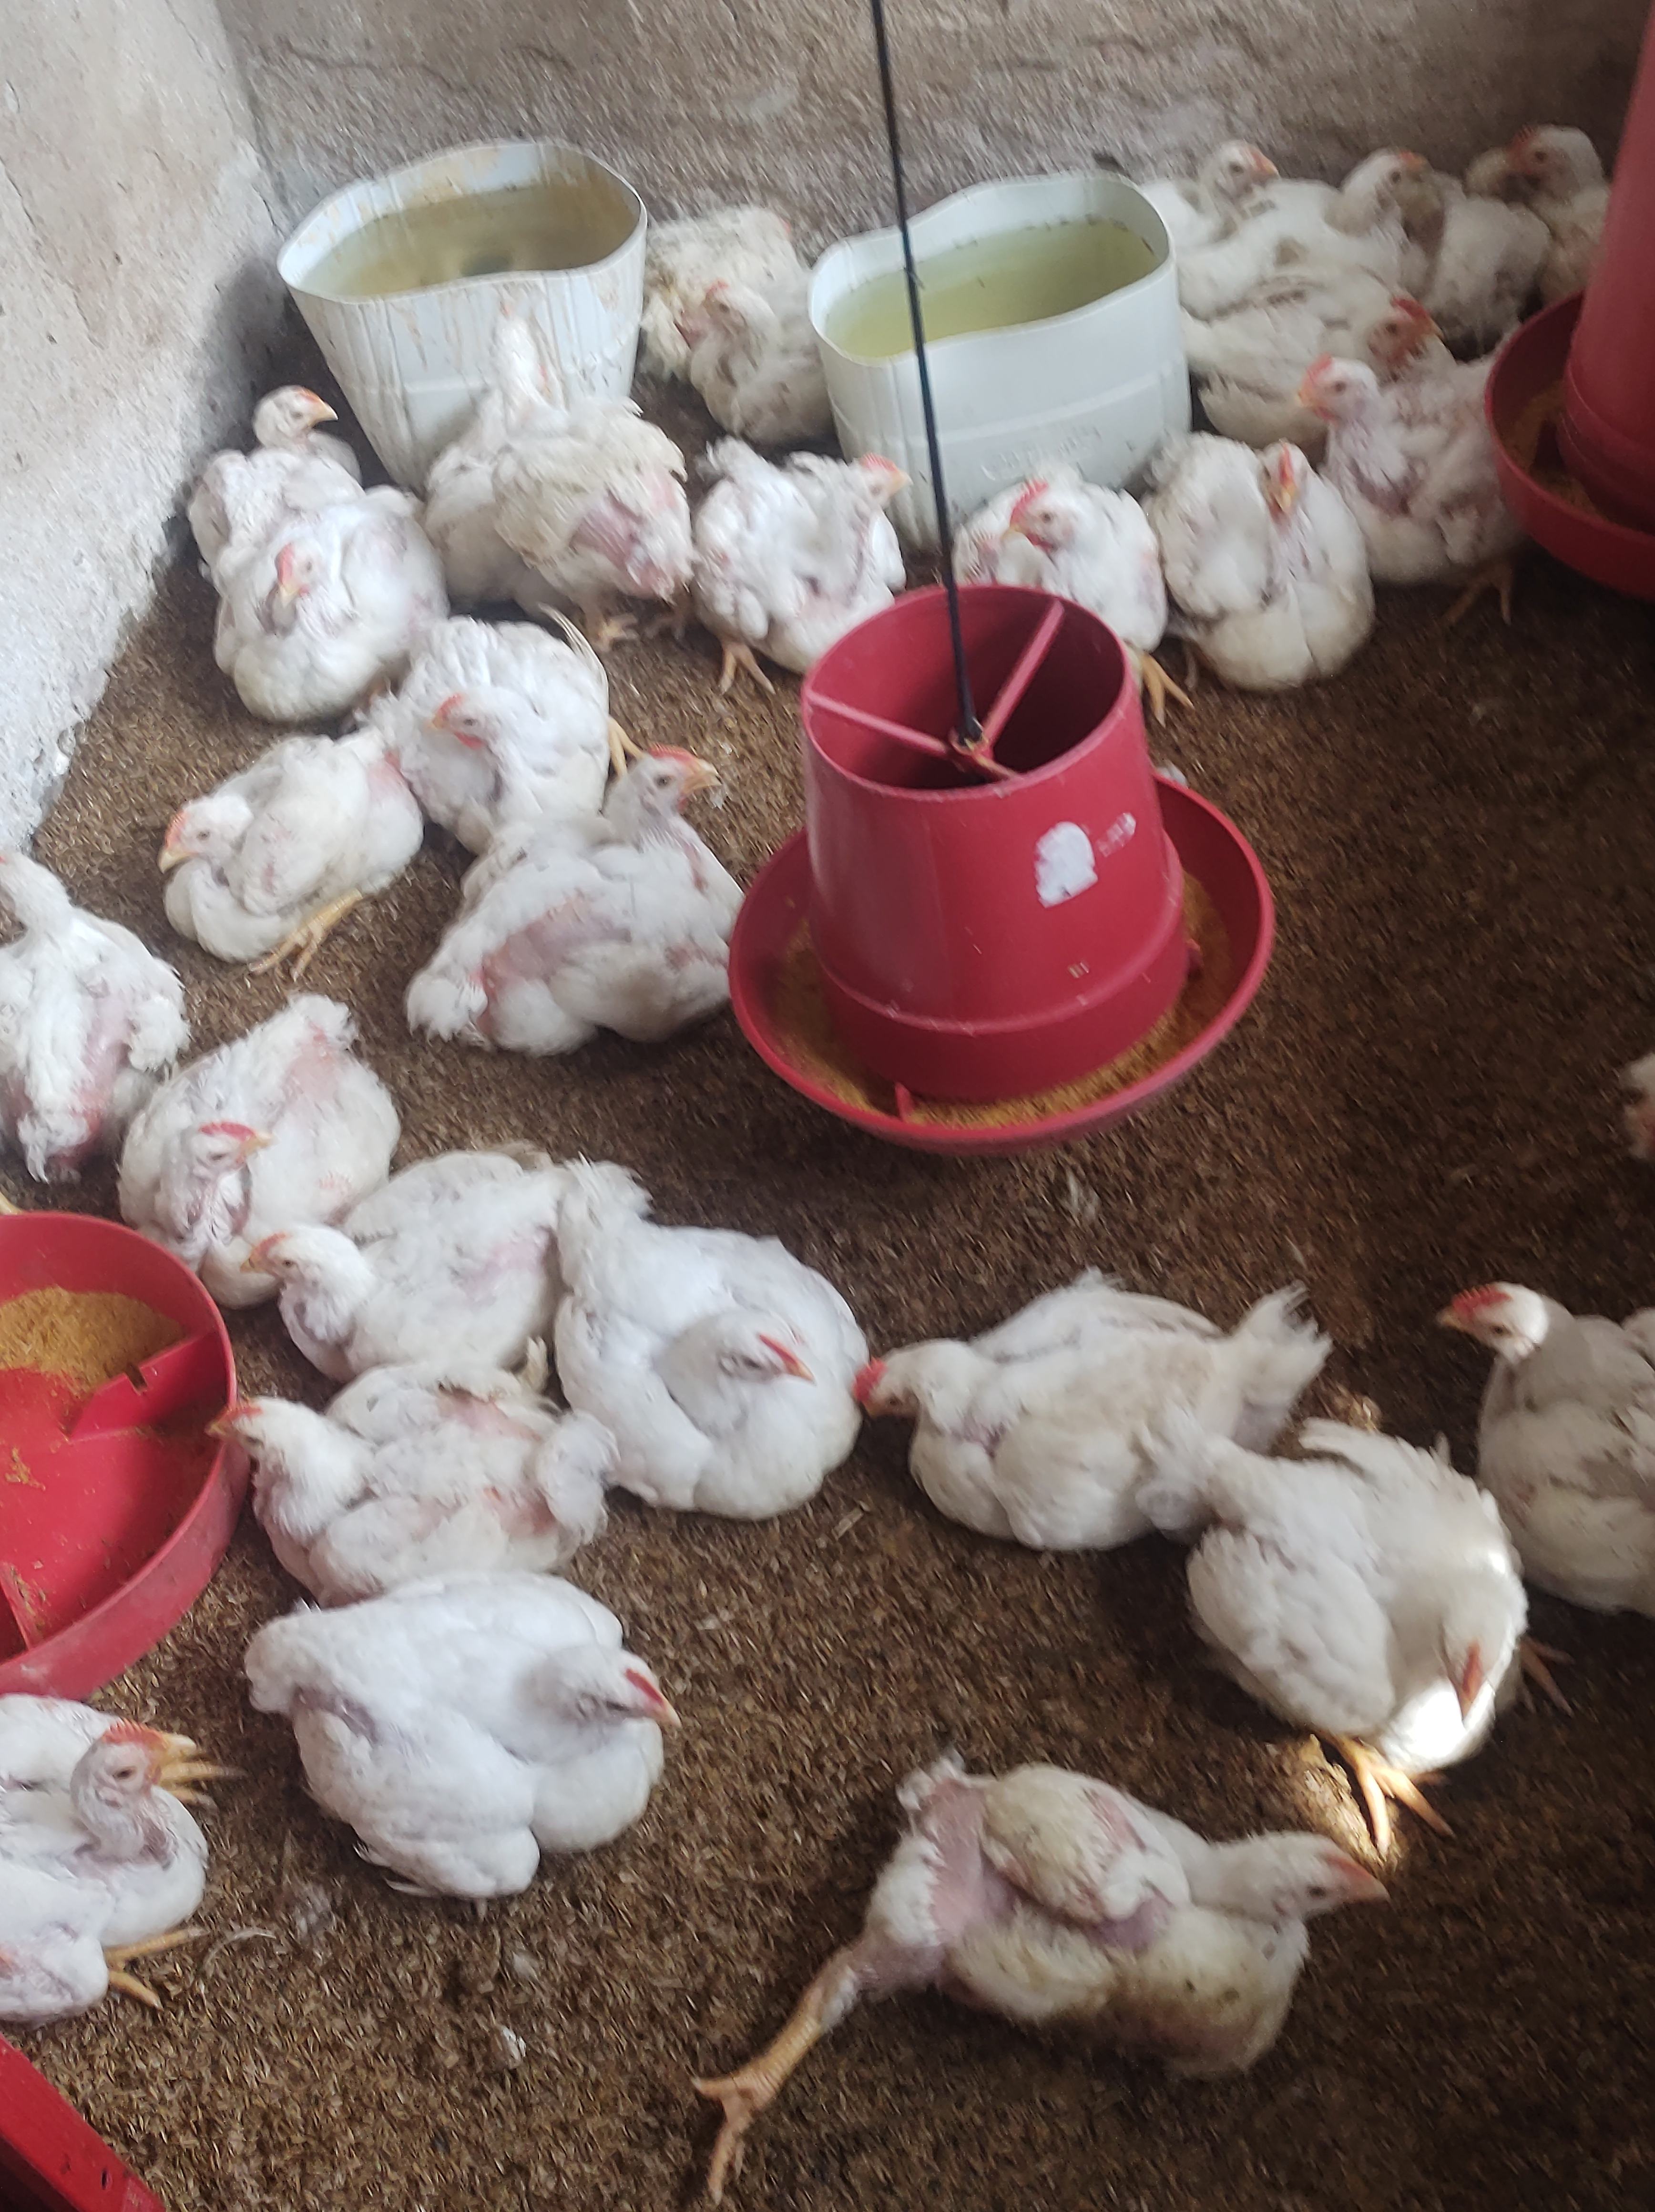Pollos: (794, 1722, 1337, 2115), (1166, 1374, 1530, 1824), (275, 1542, 697, 1873), (527, 1156, 874, 1544), (827, 1252, 1302, 1532), (1439, 1179, 1655, 1602), (419, 280, 692, 602), (189, 1376, 579, 1598), (452, 758, 732, 1056), (144, 1005, 402, 1323), (1128, 417, 1391, 689), (638, 417, 906, 673), (158, 727, 429, 970), (1279, 365, 1582, 574), (264, 1172, 572, 1376), (0, 1683, 196, 1998), (0, 831, 167, 1172), (960, 450, 1186, 689), (396, 609, 619, 819), (221, 494, 435, 703), (1297, 125, 1443, 308), (687, 250, 843, 417), (1514, 108, 1636, 294), (1144, 130, 1292, 276), (1412, 92, 1540, 245), (1342, 290, 1469, 388), (235, 369, 362, 449), (1613, 1052, 1655, 1184)
